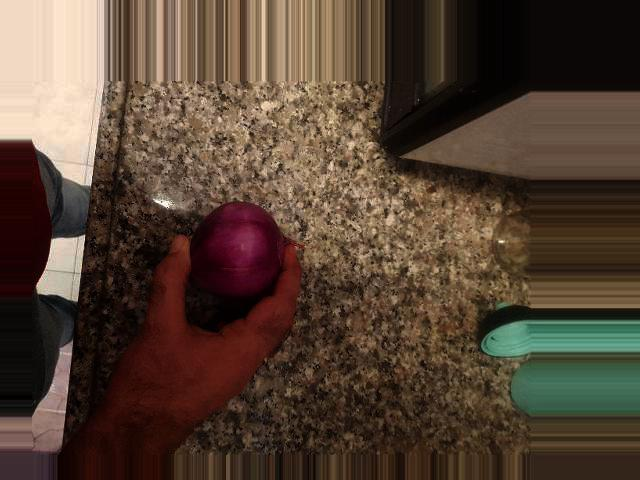onion: (169, 196, 299, 297)
